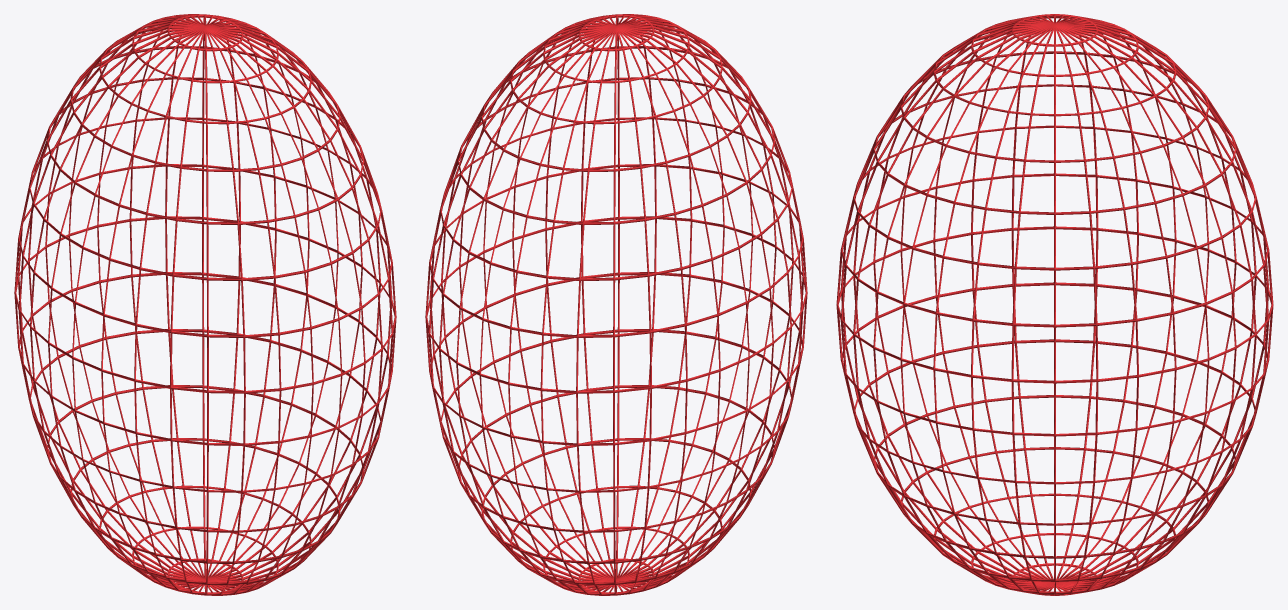
File: redEGG_C3.glb
3 renders of one model, left to right at view 1: azimuth 30°, elevation 25°; view 2: azimuth 150°, elevation 25°; view 3: azimuth 270°, elevation 25°, orthographic.
Parts seen in each view (by area): view 1: egg1_3; view 2: egg1_3; view 3: egg1_3.
Part boxes in pixels (box(x1,y1,x2,y2)): egg1_3: box(14, 14, 396, 595); egg1_3: box(425, 14, 807, 595); egg1_3: box(836, 14, 1273, 595).
Bounding box in the file's own units: 2.01 × 3.4 × 2.39.
